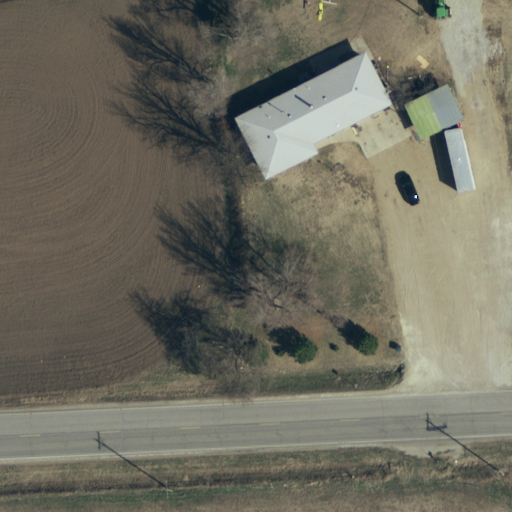DT: (484, 459, 507, 484), (156, 475, 174, 500)
